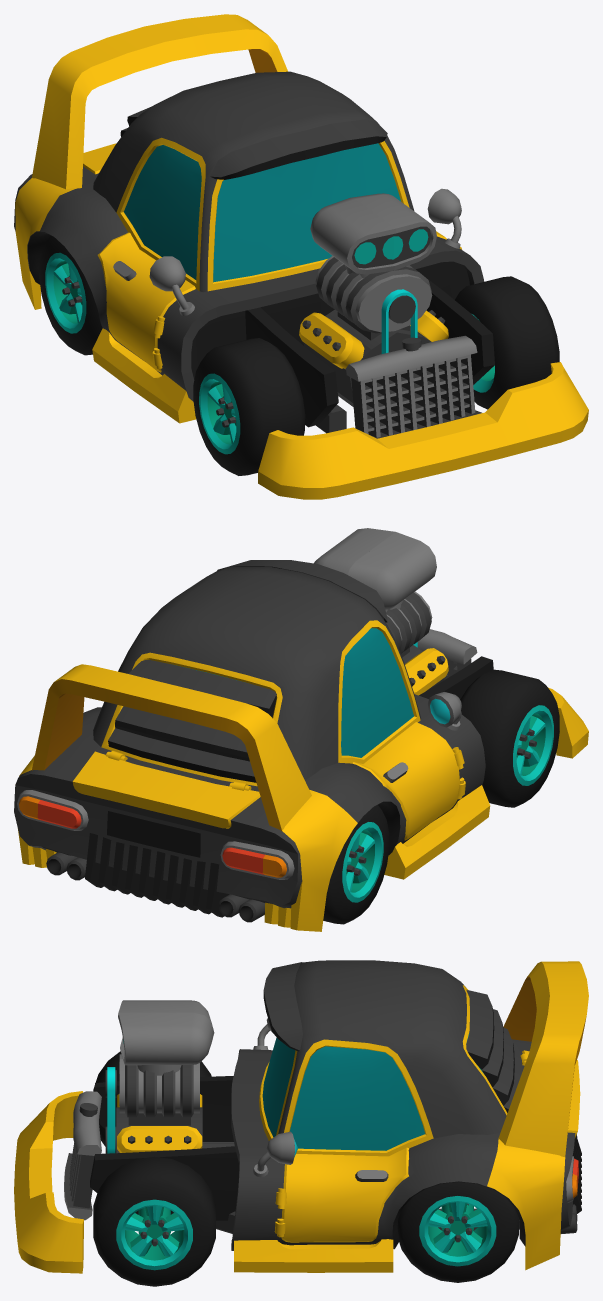
File: VEH8-C.fbx
3 views of the same model, one above another, from view 1: azimuth 30°, elevation 25°; view 2: azimuth 150°, elevation 25°; view 3: azimuth 270°, elevation 25° (orthographic). The views are drawn at different scales.
Parts seen in each view (by area): view 1: VEH8_C, V8C_Wheel_FR, V8C_Wheel_FL, V8C_Wheel_BR; view 2: VEH8_C, V8C_Wheel_FR, V8C_Wheel_BR; view 3: VEH8_C, V8C_Wheel_FL, V8C_Wheel_BL, V8C_Wheel_FR.
Part boxes in pixels (x1=…): VEH8_C: x1=14, y1=14, x2=588, y2=499; V8C_Wheel_FR: x1=193, y1=338, x2=305, y2=475; V8C_Wheel_FL: x1=455, y1=276, x2=559, y2=409; V8C_Wheel_BR: x1=39, y1=235, x2=102, y2=355; VEH8_C: x1=14, y1=528, x2=588, y2=931; V8C_Wheel_FR: x1=460, y1=669, x2=559, y2=807; V8C_Wheel_BR: x1=323, y1=805, x2=389, y2=924; VEH8_C: x1=14, y1=960, x2=588, y2=1273; V8C_Wheel_FL: x1=93, y1=1156, x2=215, y2=1286; V8C_Wheel_BL: x1=397, y1=1182, x2=518, y2=1282; V8C_Wheel_FR: x1=93, y1=1051, x2=211, y2=1146.
Size of the model in its own units: 251 by 189 by 418.
Materials: 1 (1 with a texture image).
